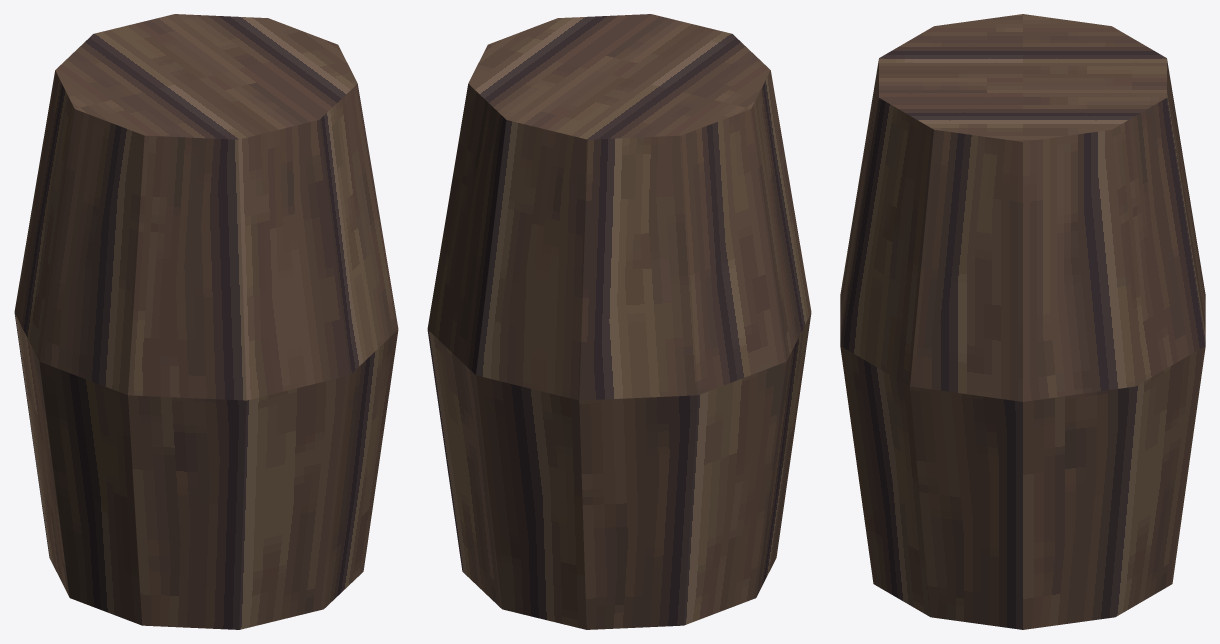
The model's file is barrel.glb.
3 renders of one model, left to right at view 1: azimuth 30°, elevation 25°; view 2: azimuth 150°, elevation 25°; view 3: azimuth 270°, elevation 25°, orthographic.
Parts seen in each view (by area): view 1: barrel; view 2: barrel; view 3: barrel.
Part boxes in pixels (left/top/right/bottom): barrel: left=14, top=14, right=398, bottom=629; barrel: left=427, top=14, right=811, bottom=629; barrel: left=840, top=14, right=1205, bottom=629.
Size of the model in its own units: 0.66 by 0.92 by 0.6277.
Materials: 1 (1 with a texture image).
